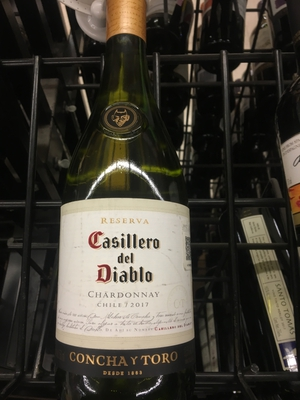casillero del diablo chardonnay: (52, 39, 200, 400)
